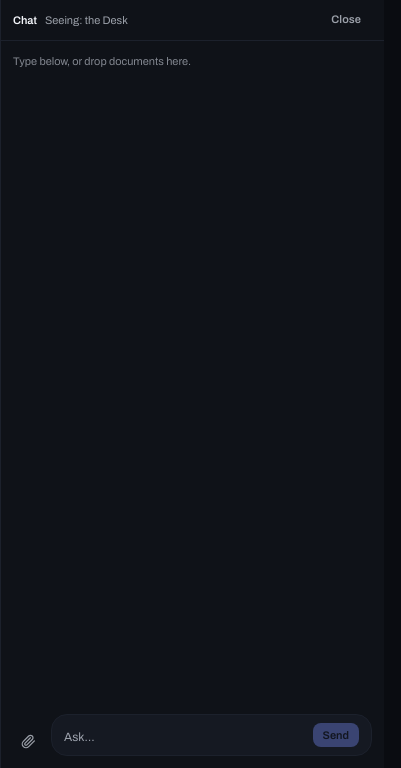
AssistDock — the system chat's footer and status (DES-SYSTEM-CHAT §3, §5) › an answer is footed with who answered and what it saw, fixed when it landed; a failed turn is not "answered"
Type "hi" into the text box with test id "assist-input" at x=184, y=737, box [64,727,304,747]
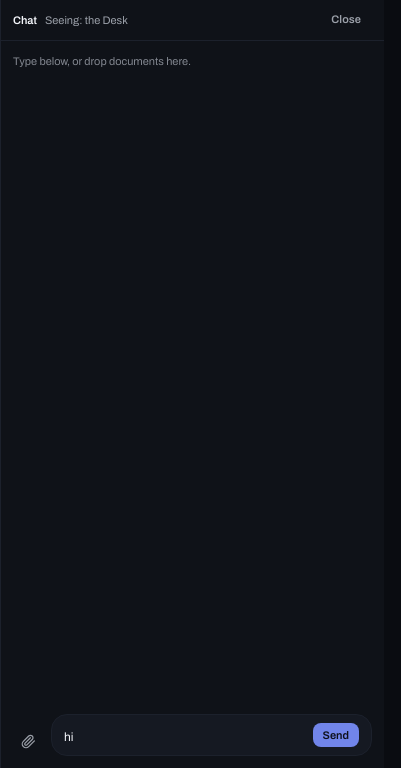
Click the button with test id "assist-send" at x=336, y=735, box [312,722,359,747]
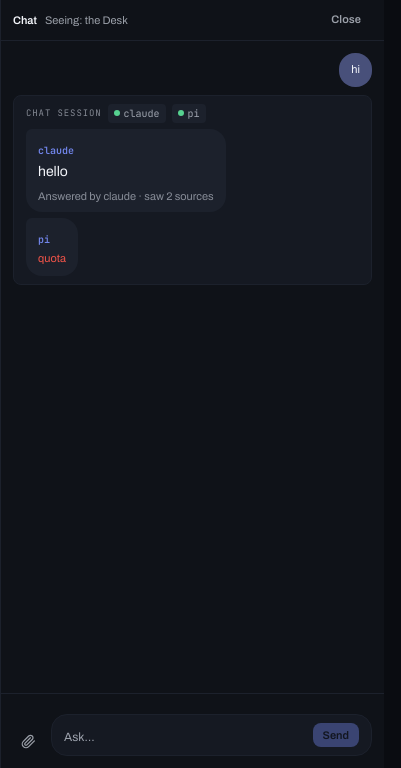
Result: the element with test id "assist-chat" is shown at [13,95,372,285]
Result: the text with test id "assist-answer-footer" reads "Answered by claude · saw 2 sources" at [38,190,214,202]
Result: the text with test id "assist-answer-footer" shows "saw 2 sources" at [38,190,214,202]
